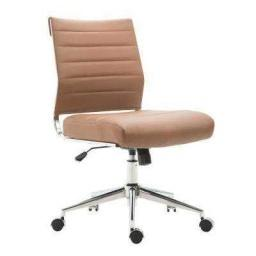Chair: (47, 17, 214, 240)
